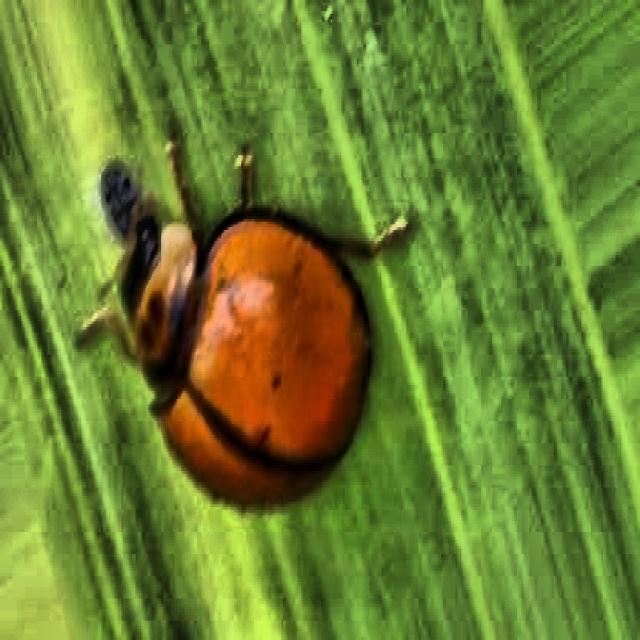Ladybug: (53, 75, 440, 549)
